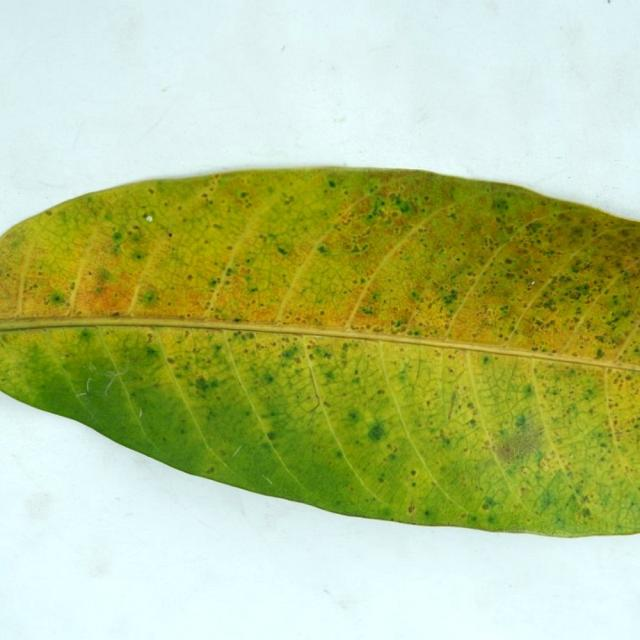Mango: (0, 168, 639, 535)
Powdery_Mildew: (493, 419, 545, 464), (74, 353, 129, 393), (362, 193, 408, 225), (534, 476, 568, 515), (566, 283, 592, 301), (366, 419, 384, 443), (44, 290, 67, 307), (193, 375, 214, 393), (281, 344, 302, 361), (94, 267, 114, 284), (5, 234, 25, 251), (126, 226, 144, 243), (139, 290, 157, 305), (441, 290, 458, 305), (539, 298, 557, 312), (500, 443, 515, 457), (482, 496, 498, 509), (527, 222, 544, 234), (145, 345, 159, 359), (494, 199, 510, 211), (397, 369, 409, 384), (438, 432, 452, 444), (347, 410, 359, 421), (515, 415, 526, 427), (263, 373, 275, 384), (111, 231, 123, 242), (316, 245, 329, 255), (277, 246, 289, 256), (265, 430, 277, 440), (223, 267, 234, 277), (392, 320, 403, 330), (571, 263, 582, 273), (283, 195, 294, 205), (361, 307, 374, 315), (132, 252, 143, 261), (595, 347, 604, 358), (582, 507, 591, 517), (468, 418, 477, 428), (409, 329, 420, 336), (239, 191, 248, 199), (466, 401, 475, 409), (143, 214, 152, 222), (328, 180, 336, 188), (423, 509, 431, 517), (408, 504, 415, 513), (167, 357, 175, 364), (567, 471, 574, 479), (233, 318, 243, 323), (201, 192, 208, 199), (206, 467, 214, 473), (410, 469, 416, 476), (45, 210, 52, 216), (531, 346, 539, 351), (411, 481, 417, 487), (187, 274, 193, 280), (70, 282, 75, 289), (226, 245, 233, 250)
